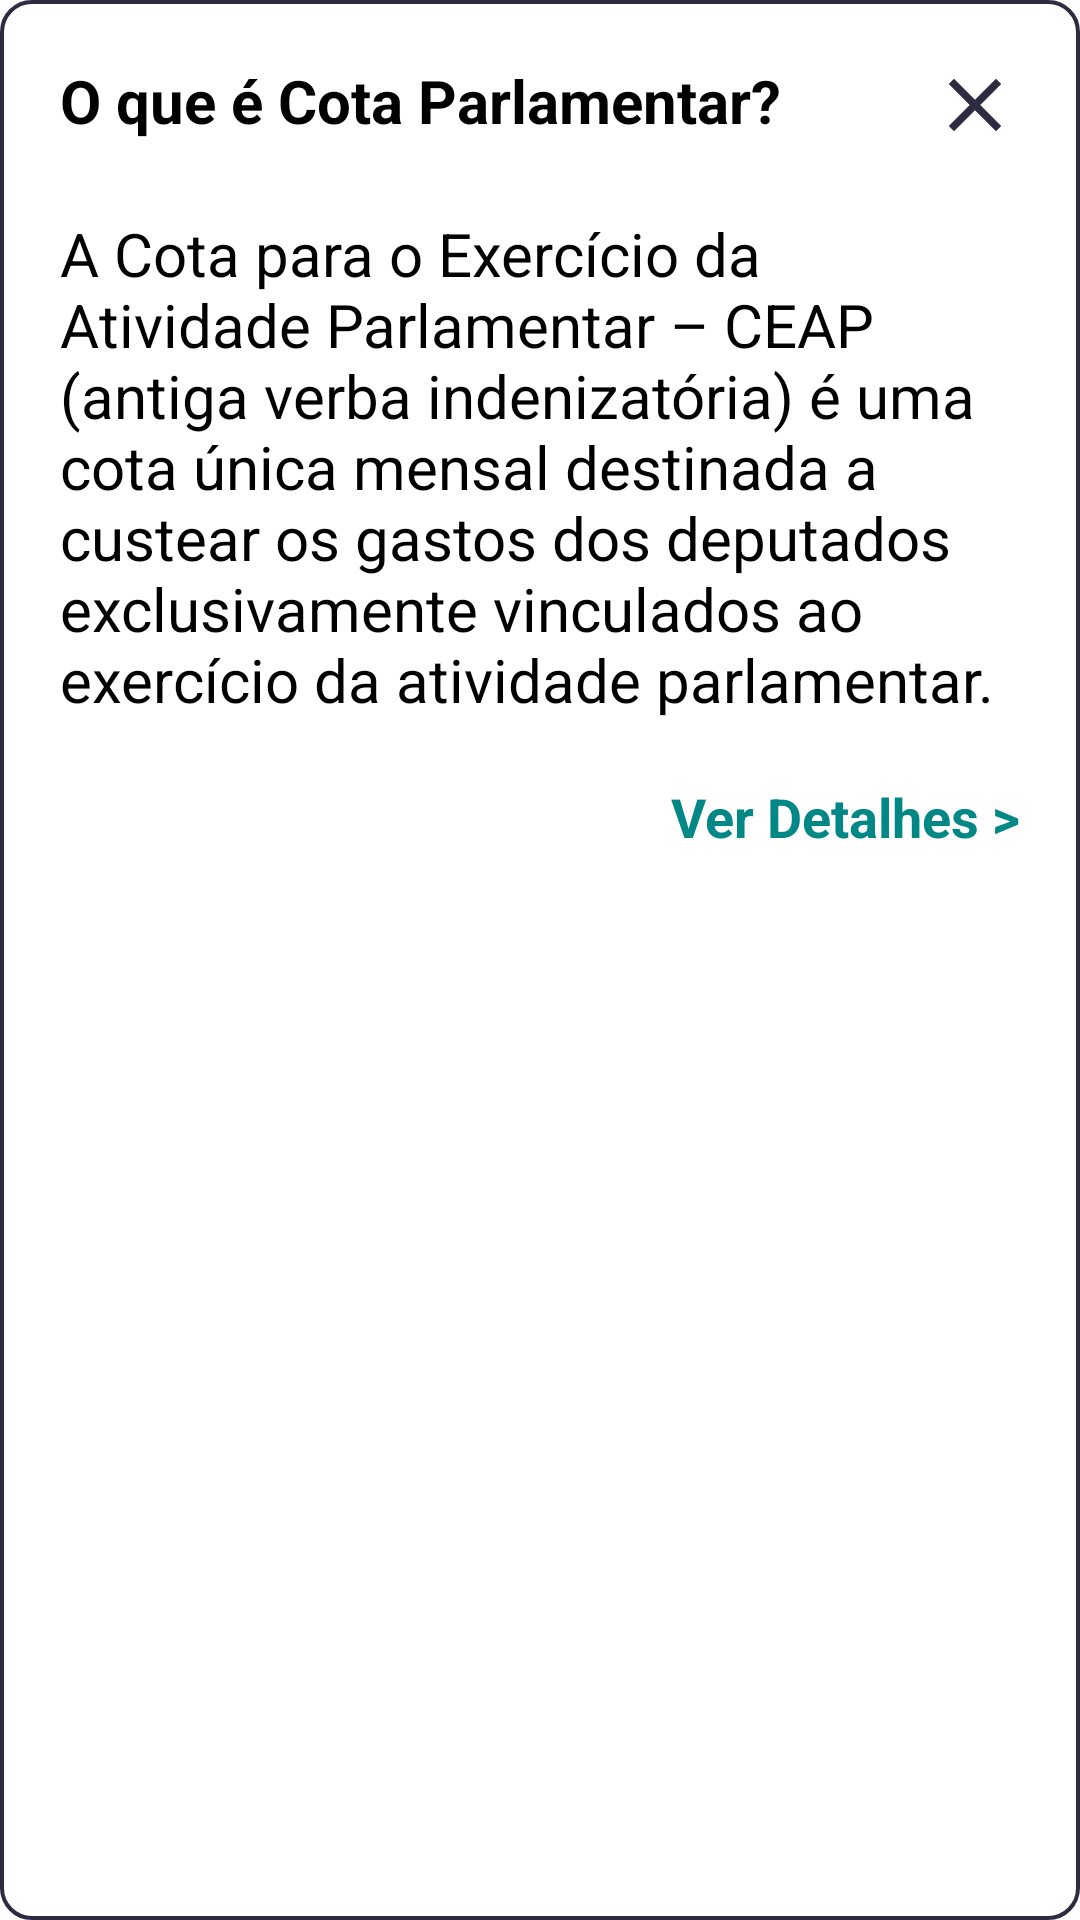

Where icons sit on this 1080*1920 app screen, as (x1, y1, x2, y2):
close: (949, 79, 1001, 131)
